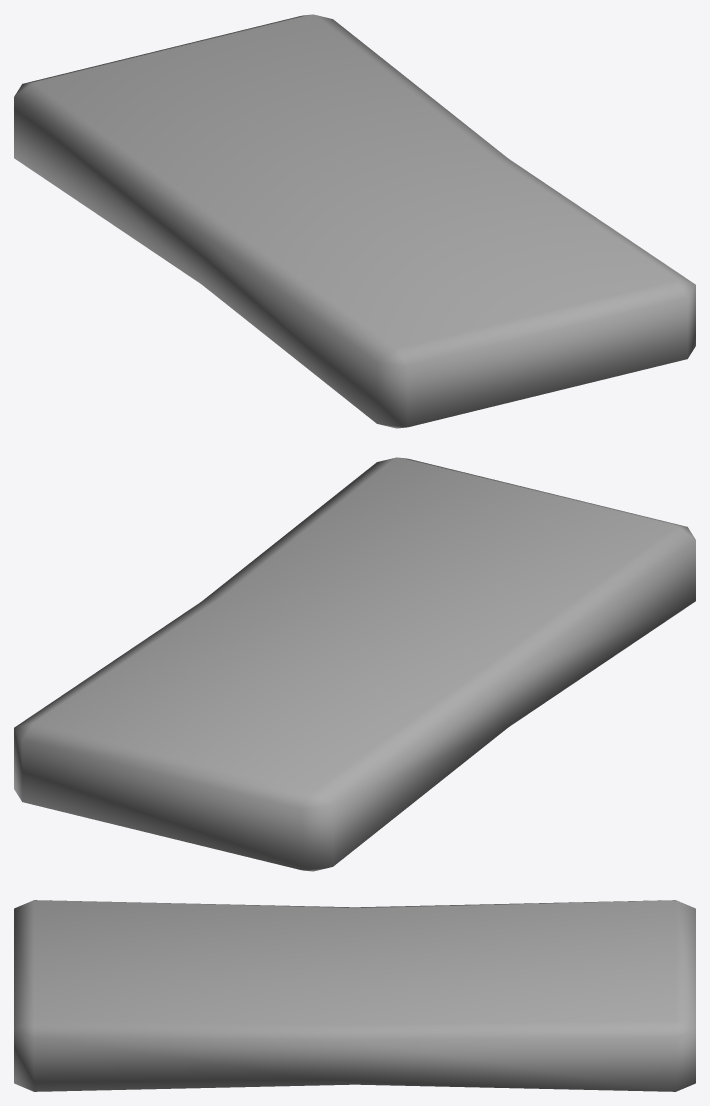
File: SM_PlasticSheet.fbx
3 views of the same model, one above another, from view 1: azimuth 30°, elevation 25°; view 2: azimuth 150°, elevation 25°; view 3: azimuth 270°, elevation 25° (orthographic). The views are drawn at different scales.
Parts seen in each view (by area): view 1: PlasticSheet; view 2: PlasticSheet; view 3: PlasticSheet.
Part boxes in pixels (x1=…): PlasticSheet: x1=14, y1=14, x2=695, y2=428; PlasticSheet: x1=14, y1=457, x2=695, y2=871; PlasticSheet: x1=14, y1=900, x2=695, y2=1091.
Bounding box in the file's own units: 28.49 × 6.85 × 59.65.
